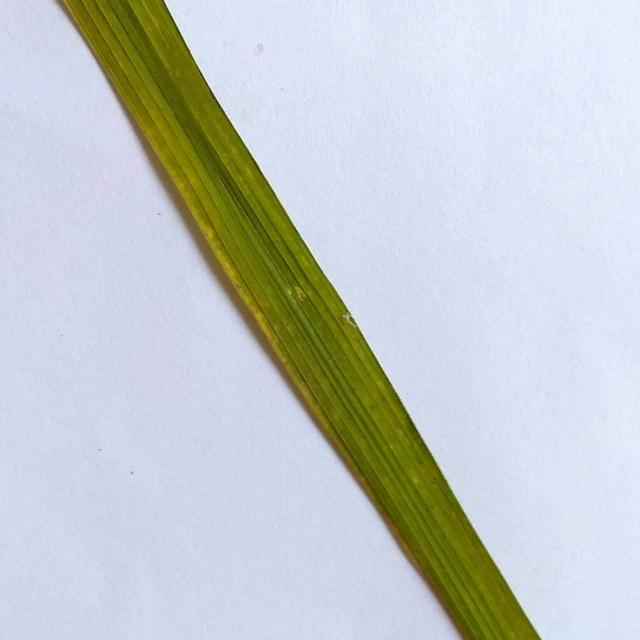Rice_Healthy: (64, 0, 541, 640)
